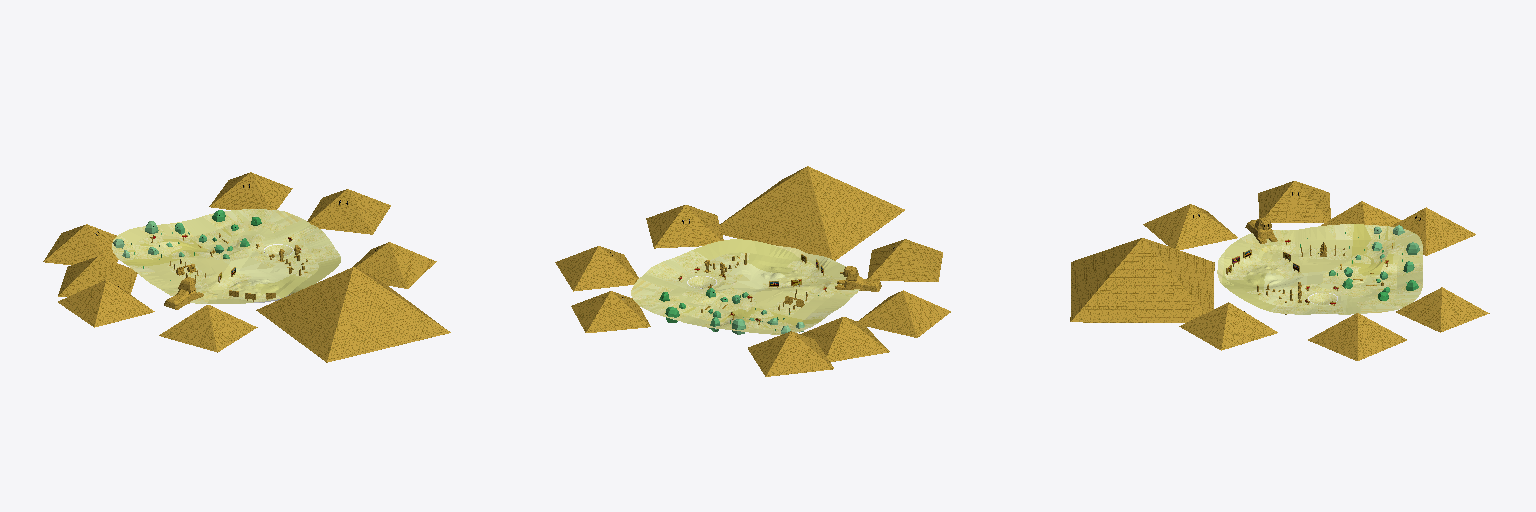
3 renders of one model, left to right at view 1: azimuth 30°, elevation 25°; view 2: azimuth 150°, elevation 25°; view 3: azimuth 270°, elevation 25°, orthographic.
Visible parts, largest first — view 1: Group9, Group2, Group15, Group1, Group16, Group10; view 2: Group9, Group2, Group15, Group1, Group16, Group10; view 3: Group9, Group2, Group15, Group1, Group16, Group10.
Boxes of the visible parts, x1=… form: Group9: x1=43, y1=172, x2=450, y2=362; Group2: x1=112, y1=209, x2=340, y2=303; Group15: x1=135, y1=221, x2=317, y2=301; Group1: x1=151, y1=227, x2=303, y2=298; Group16: x1=165, y1=231, x2=299, y2=296; Group10: x1=113, y1=210, x2=261, y2=258; Group9: x1=555, y1=166, x2=950, y2=376; Group2: x1=631, y1=239, x2=859, y2=334; Group15: x1=655, y1=253, x2=842, y2=329; Group1: x1=669, y1=259, x2=830, y2=324; Group16: x1=679, y1=261, x2=823, y2=320; Group10: x1=659, y1=288, x2=804, y2=334; Group9: x1=1070, y1=181, x2=1489, y2=360; Group2: x1=1217, y1=224, x2=1422, y2=314; Group15: x1=1225, y1=240, x2=1403, y2=309; Group1: x1=1236, y1=245, x2=1388, y2=306; Group16: x1=1243, y1=250, x2=1379, y2=305; Group10: x1=1329, y1=225, x2=1419, y2=300.
Bounding box in the file's own units: 164206 × 29316 × 171065.
14 materials, 11 textured.